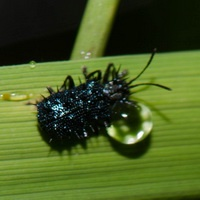insect: (0, 53, 170, 155), (36, 49, 170, 154)
